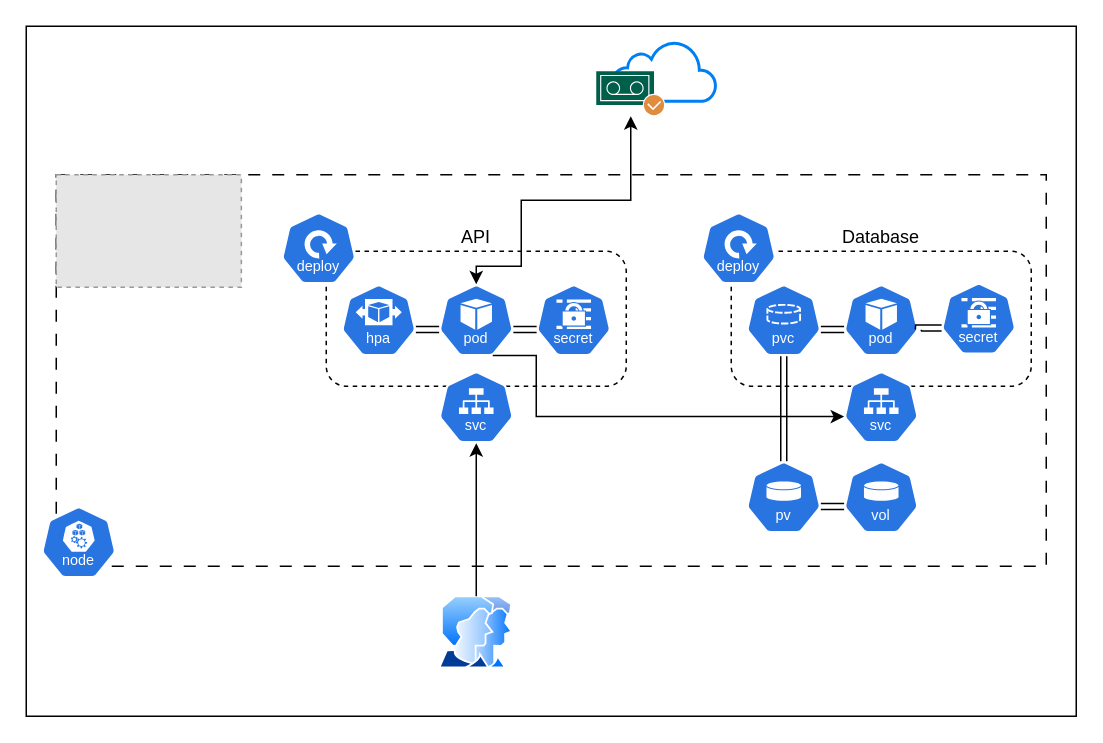
This 1103x743 diagram has some shape labels left out. Grey dashed boxes stand in for pictures. Each missing label, with the centre of its shape:
Client/User: point 475,632
Fakecheckout API: point 630,93
